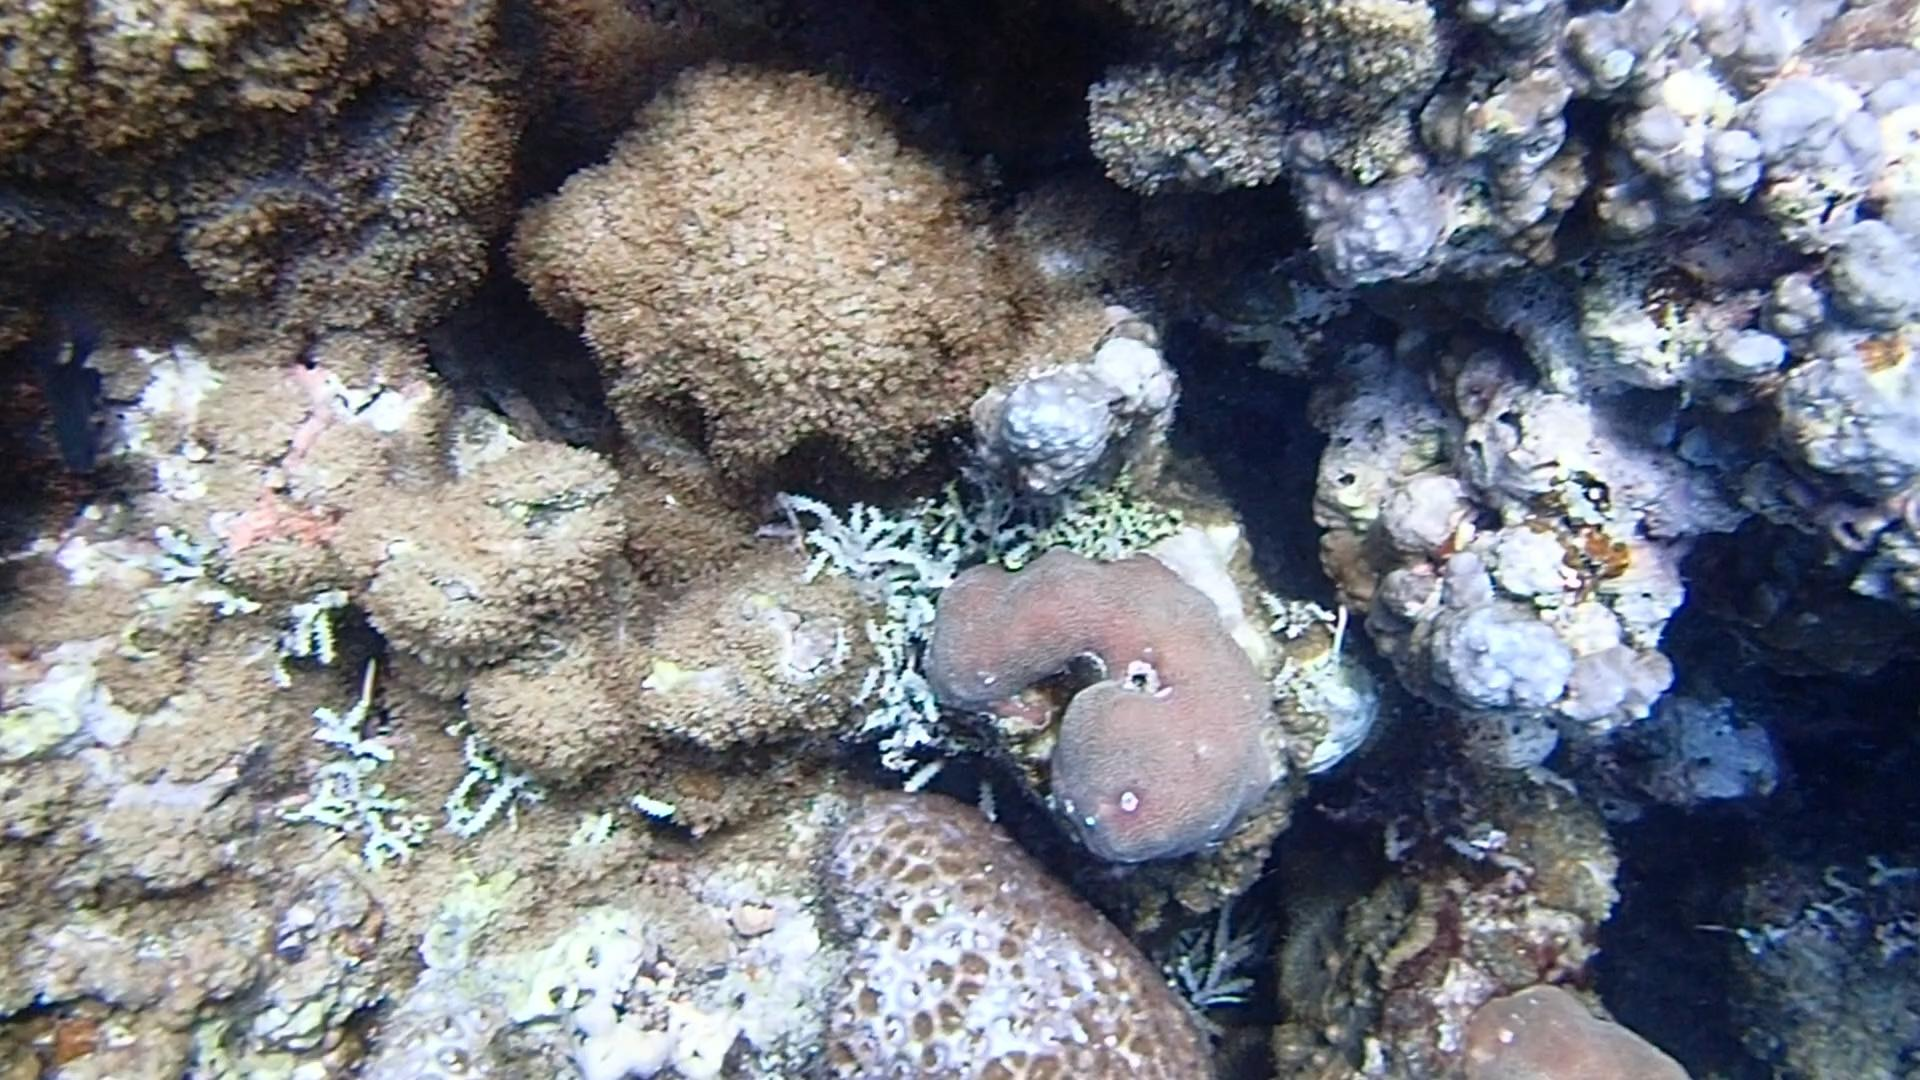Dark Fish: (36, 316, 116, 484)
